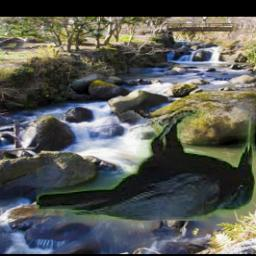Crow: (36, 111, 255, 222)
